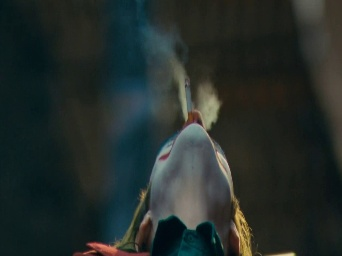smoke: (182, 78, 195, 122)
